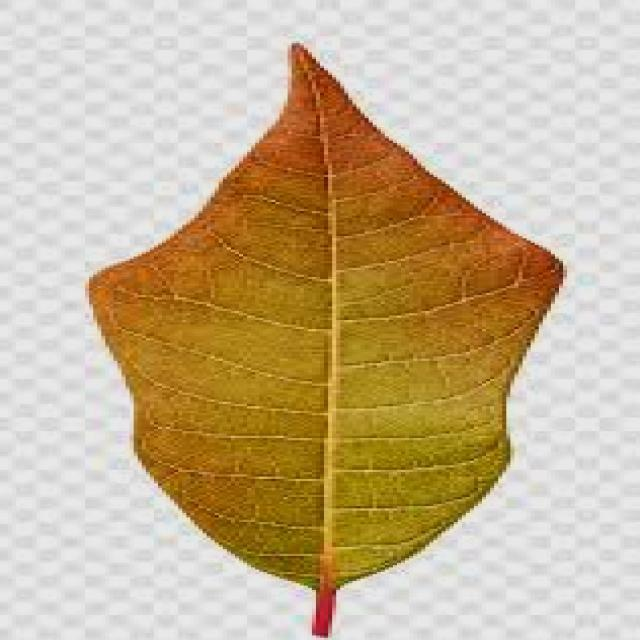leaf: (85, 41, 565, 636)
